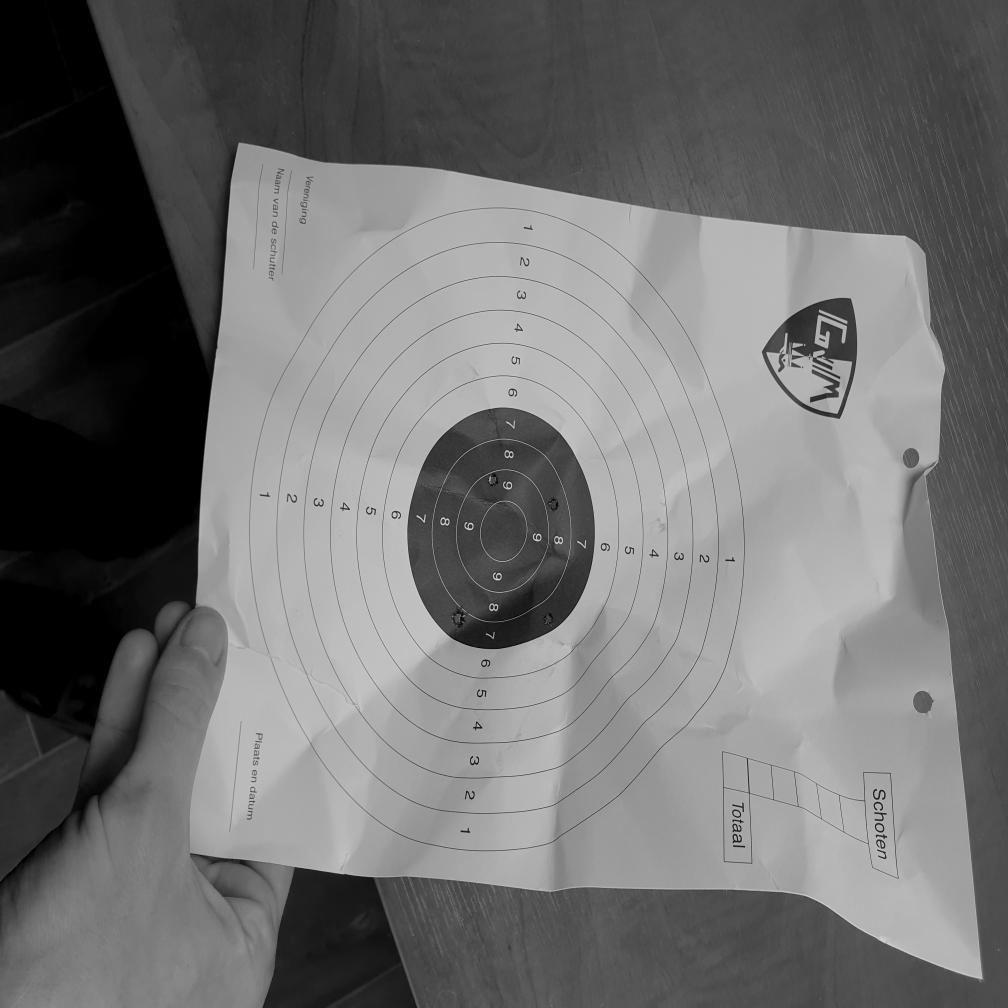7: (449, 605, 470, 634), (542, 612, 555, 628)
8: (547, 496, 560, 514)
9: (487, 472, 499, 489)
Target: (248, 209, 741, 858)
black_contour: (408, 407, 595, 651)
